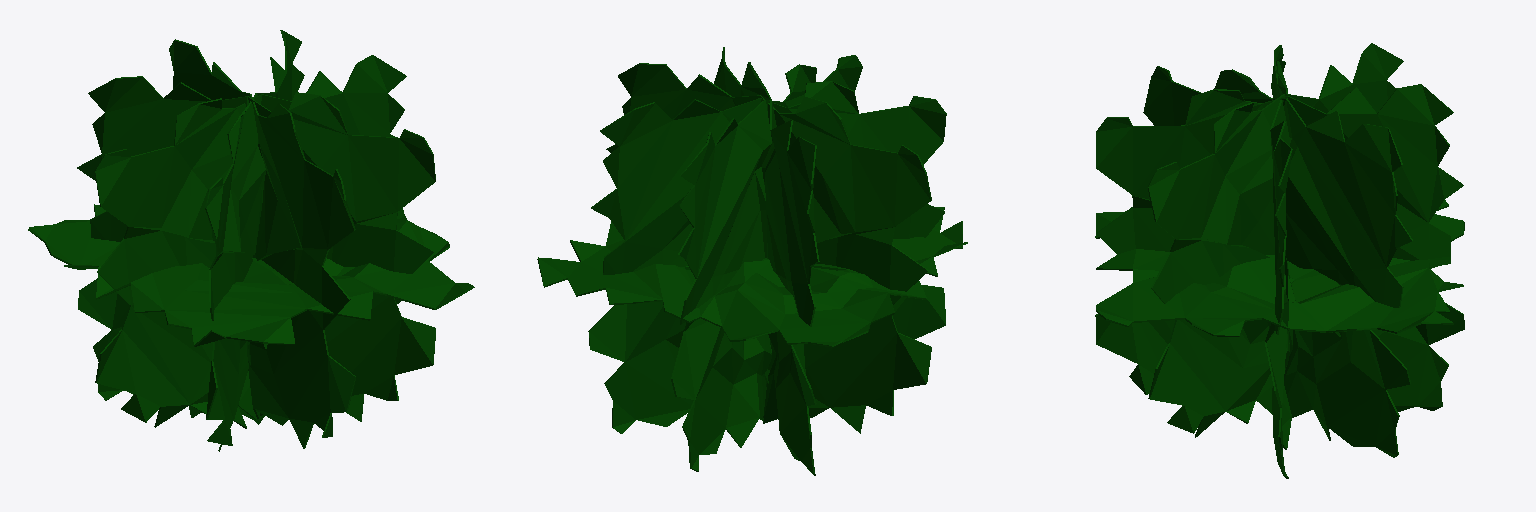
The model's file is TreeLeaves.obj.
The picture shows the model from 3 angles: view 1: azimuth 30°, elevation 25°; view 2: azimuth 150°, elevation 25°; view 3: azimuth 270°, elevation 25°; orthographic projection.
Parts seen in each view (by area): view 1: Plane.003, Plane, Plane.001, Plane.004, Plane.002; view 2: Plane.002, Plane, Plane.001, Plane.004, Plane.003; view 3: Plane.002, Plane.003, Plane.001, Plane.004, Plane.
Part boxes in pixels (x1,y1,x2,y2): Plane.003: (77, 76, 435, 421); Plane: (95, 55, 406, 427); Plane.001: (169, 39, 355, 448); Plane.004: (28, 204, 474, 346); Plane.002: (205, 30, 304, 451); Plane.002: (588, 81, 946, 433); Plane: (606, 63, 931, 433); Plane.001: (671, 55, 862, 471); Plane.004: (537, 207, 967, 347); Plane.003: (714, 47, 819, 475); Plane.002: (1143, 66, 1412, 457); Plane.003: (1148, 43, 1403, 437); Plane.001: (1095, 84, 1464, 411); Plane.004: (1095, 195, 1464, 336); Plane: (1265, 45, 1293, 478).
Bounding box in the file's own units: 2 × 2 × 2.